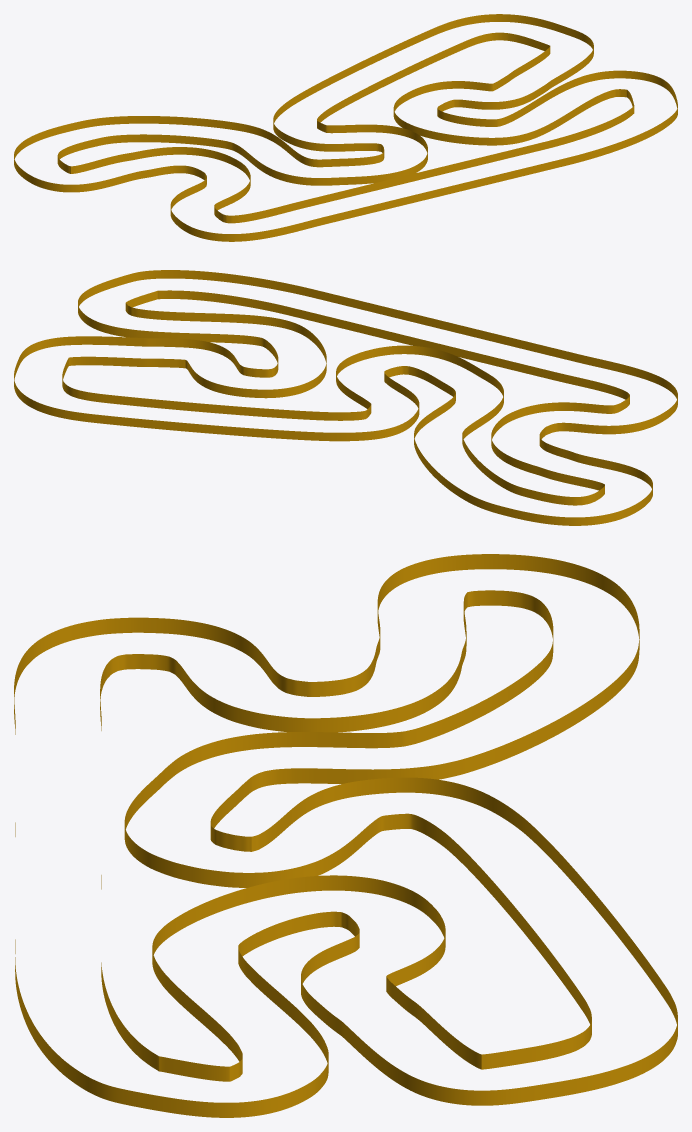
Rendered from WALLS.fbx.
3 renders of one model, top to bottom at view 1: azimuth 30°, elevation 25°; view 2: azimuth 150°, elevation 25°; view 3: azimuth 270°, elevation 25°, orthographic. The views are drawn at different scales.
Parts seen in each view (by area): view 1: NewWalls; view 2: NewWalls; view 3: NewWalls.
Boxes of the visible parts, x1,y1,x2,y2 form: NewWalls: (14,14,677,241); NewWalls: (14,270,677,525); NewWalls: (14,554,677,1117).
Size of the model in its own units: 3982 by 7786 by 100.
